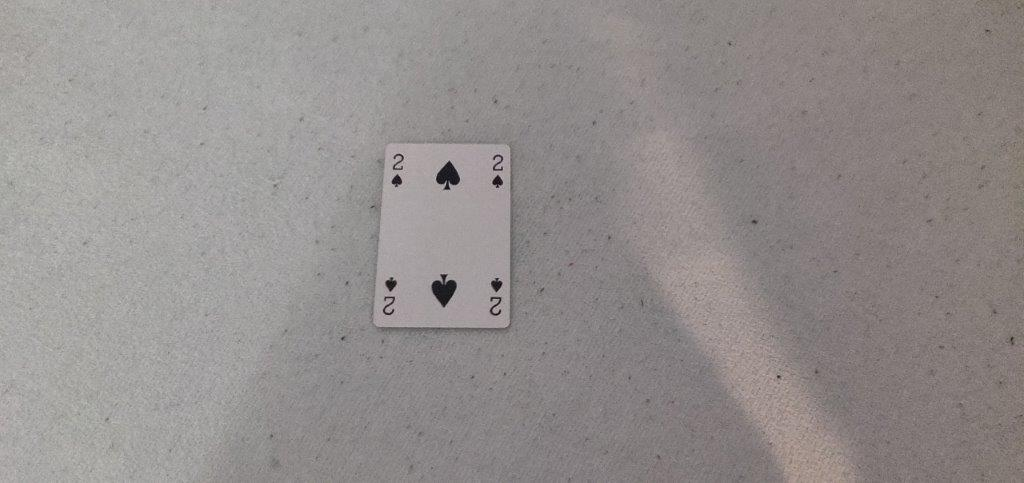2S: (487, 151, 509, 192), (388, 152, 408, 192)
